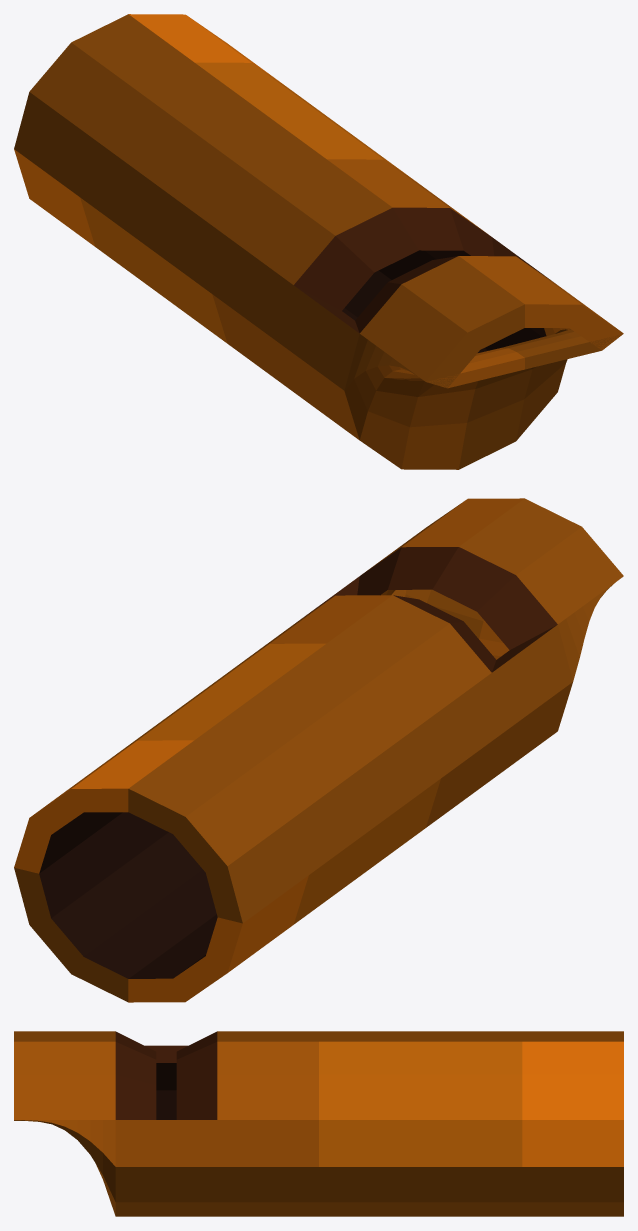
File: whistle_693x01.gltf
3 renders of one model, top to bottom at view 1: azimuth 30°, elevation 25°; view 2: azimuth 150°, elevation 25°; view 3: azimuth 270°, elevation 25°, orthographic. The views are drawn at different scales.
Visible parts, largest first — view 1: Whistle_693x01; view 2: Whistle_693x01; view 3: Whistle_693x01.
Part boxes in pixels (box(x1,y1,x2,y2)): Whistle_693x01: box(14, 14, 623, 469); Whistle_693x01: box(14, 498, 623, 1002); Whistle_693x01: box(14, 1031, 623, 1216).
Size of the model in its own units: 0.3333 by 0.2976 by 0.9998.
1 material, 1 textured.
